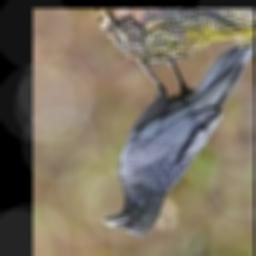Crow: (102, 45, 254, 237)
